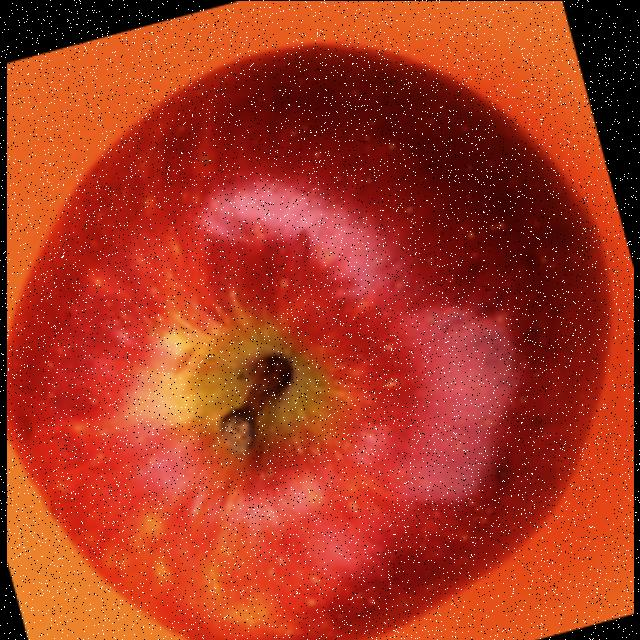Apel Segar: (6, 19, 617, 640)
